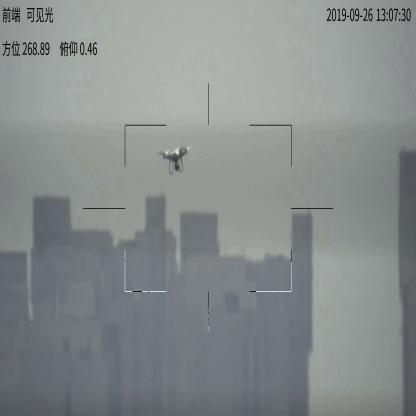uav: (157, 147, 191, 176)
